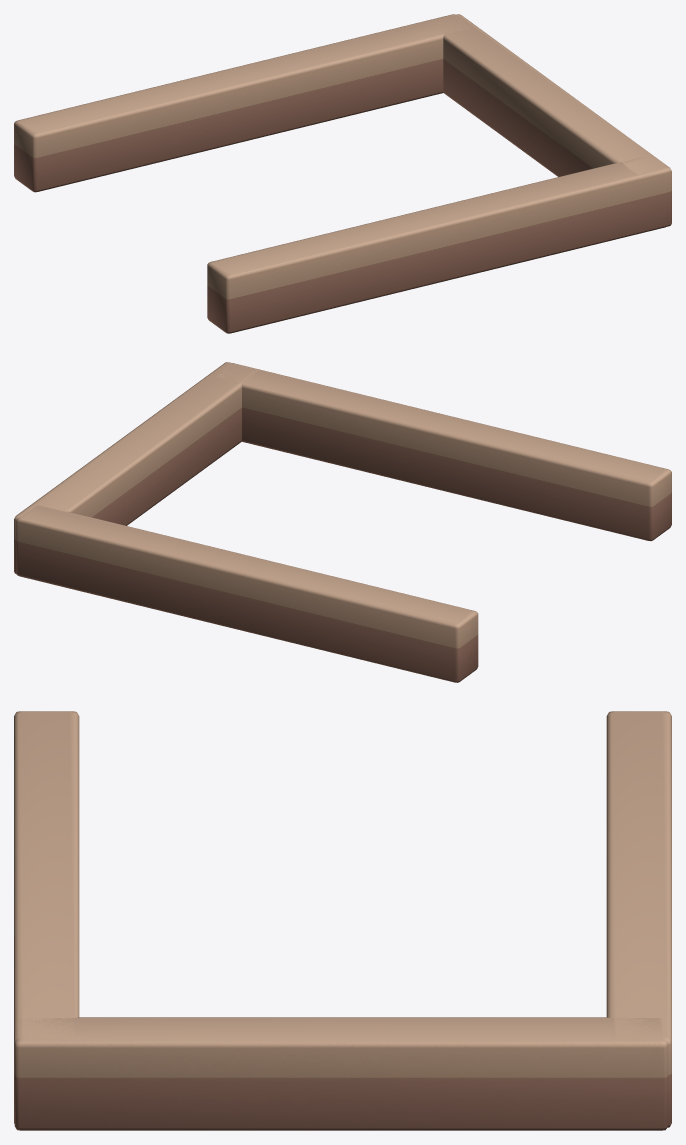
The model's file is Props.fbx.
3 views of the same model, one above another, from view 1: azimuth 30°, elevation 25°; view 2: azimuth 150°, elevation 25°; view 3: azimuth 270°, elevation 25° (orthographic). The views are drawn at different scales.
Visible parts, largest first — view 1: Box20-3_2 (2), Box20-3_2 (1), Box20-3_2; view 2: Box20-3_2 (1), Box20-3_2 (2), Box20-3_2; view 3: Box20-3_2, Box20-3_2 (1), Box20-3_2 (2).
Part boxes in pixels (x1=…): Box20-3_2 (2): x1=207, y1=157, x2=667, y2=333; Box20-3_2 (1): x1=14, y1=14, x2=470, y2=192; Box20-3_2: x1=430, y1=14, x2=671, y2=226; Box20-3_2 (1): x1=16, y1=505, x2=478, y2=682; Box20-3_2 (2): x1=215, y1=363, x2=671, y2=541; Box20-3_2: x1=14, y1=362, x2=257, y2=574; Box20-3_2: x1=14, y1=1017, x2=667, y2=1130; Box20-3_2 (1): x1=606, y1=711, x2=671, y2=1127; Box20-3_2 (2): x1=14, y1=711, x2=79, y2=1123.
Size of the model in its own units: 12.09 by 1.5 by 10.07.
